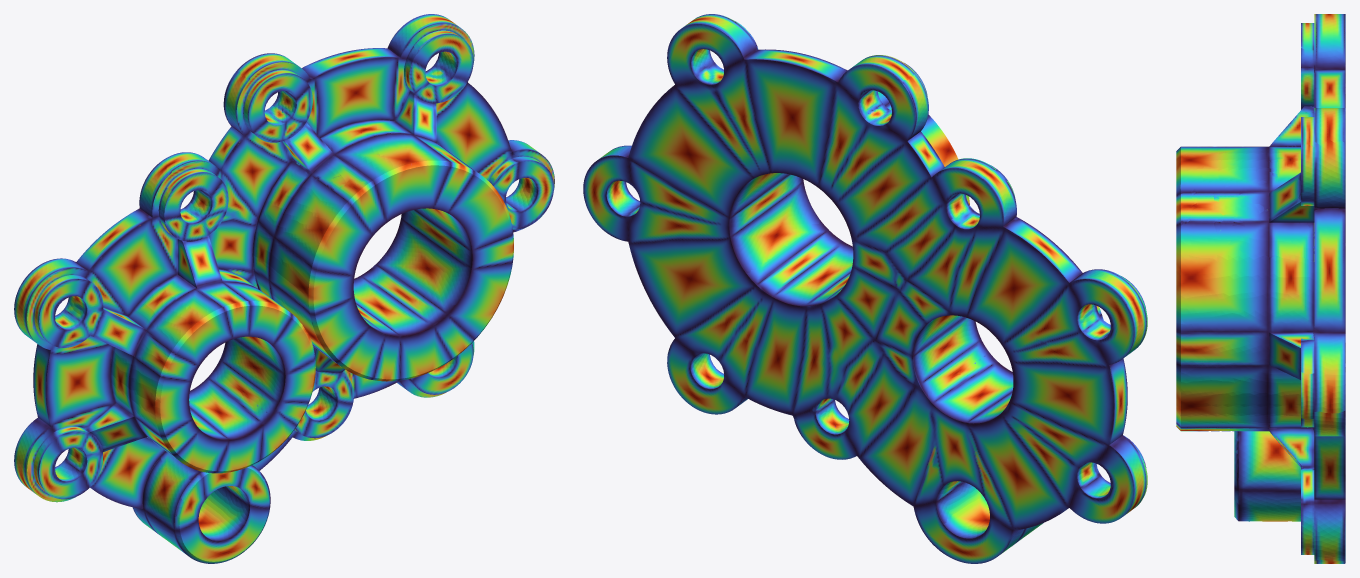
The model's file is gen2.glb.
3 views of the same model, side by side, from view 1: azimuth 30°, elevation 25°; view 2: azimuth 150°, elevation 25°; view 3: azimuth 270°, elevation 25° (orthographic). The views are drawn at different scales.
Parts seen in each view (by area): view 1: Node; view 2: Node; view 3: Node.
Part boxes in pixels (x1,y1,x2,y2): Node: (14, 14, 554, 563); Node: (583, 14, 1147, 563); Node: (1176, 14, 1345, 563).
Bounding box in the file's own units: 164 × 135 × 38.03.
1 material, 1 textured.
